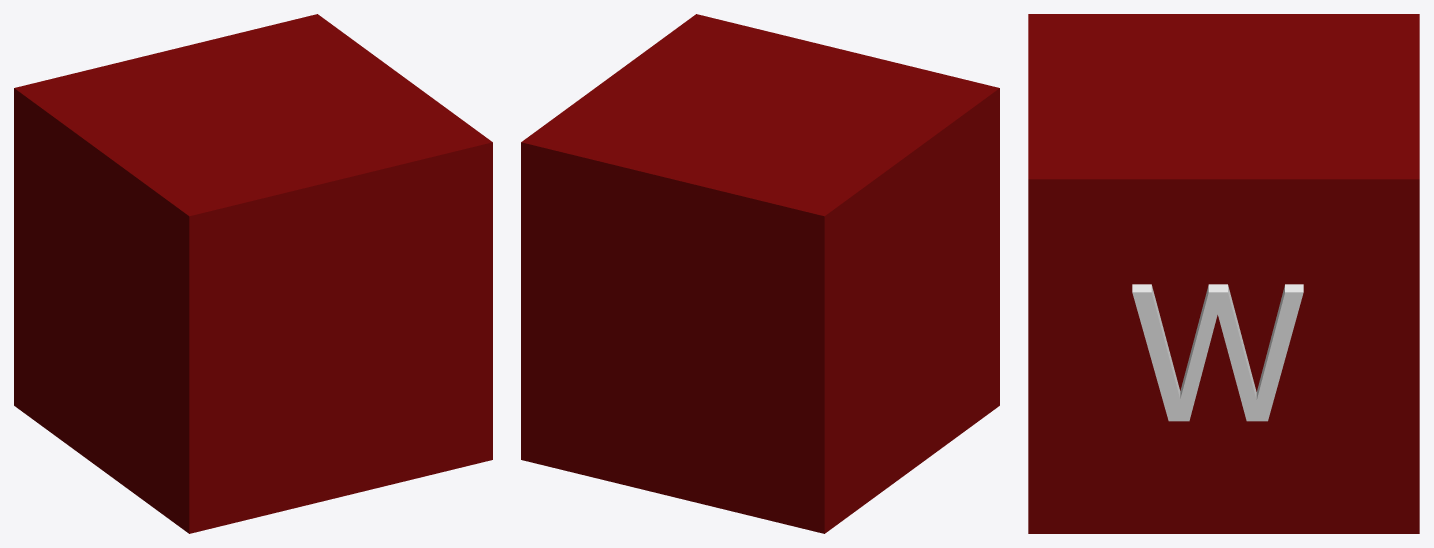
The picture shows the model from 3 angles, left to right: view 1: azimuth 30°, elevation 25°; view 2: azimuth 150°, elevation 25°; view 3: azimuth 270°, elevation 25°; orthographic projection. The views are drawn at different scales.
Visible parts, largest first — view 1: SketchUp; view 2: SketchUp; view 3: SketchUp, W.
Boxes of the visible parts, left/top/right/bottom form: SketchUp: left=14, top=14, right=492, bottom=533; SketchUp: left=521, top=14, right=999, bottom=533; SketchUp: left=1028, top=14, right=1419, bottom=533; W: left=1132, top=284, right=1303, bottom=421.
Bounding box in the file's own units: 21 × 20 × 20.
